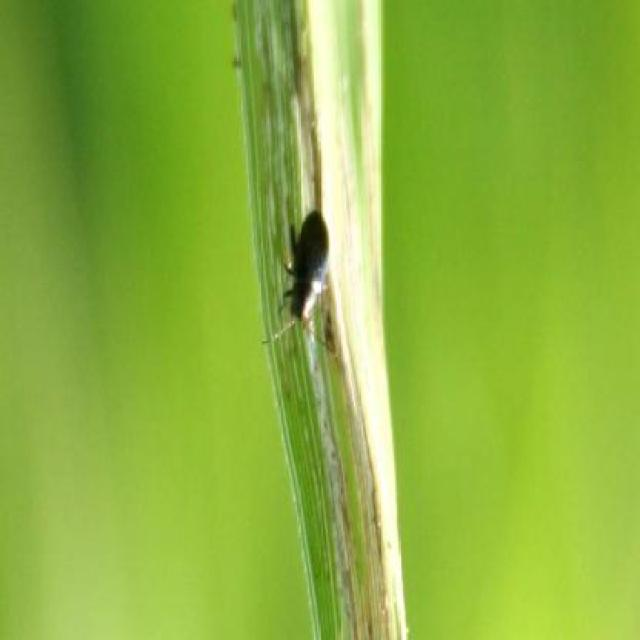rice-bug: (278, 205, 338, 333)
